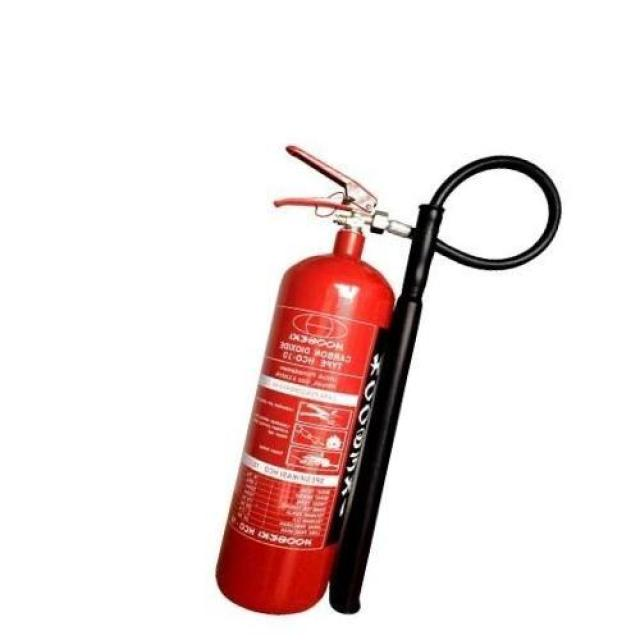fire_extinguisher: (208, 140, 565, 618)
